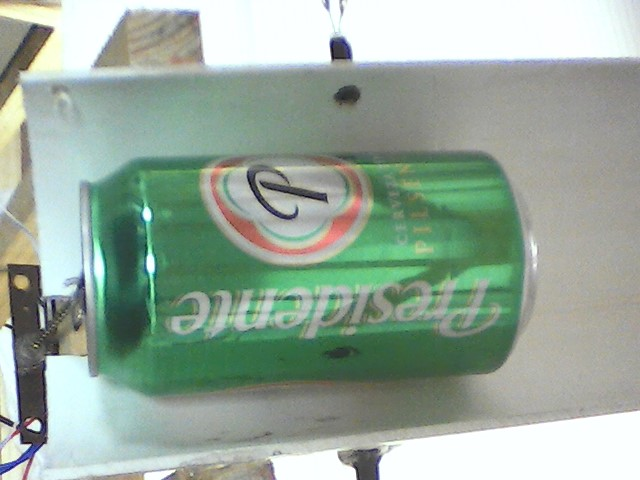lata: (78, 145, 540, 401)
